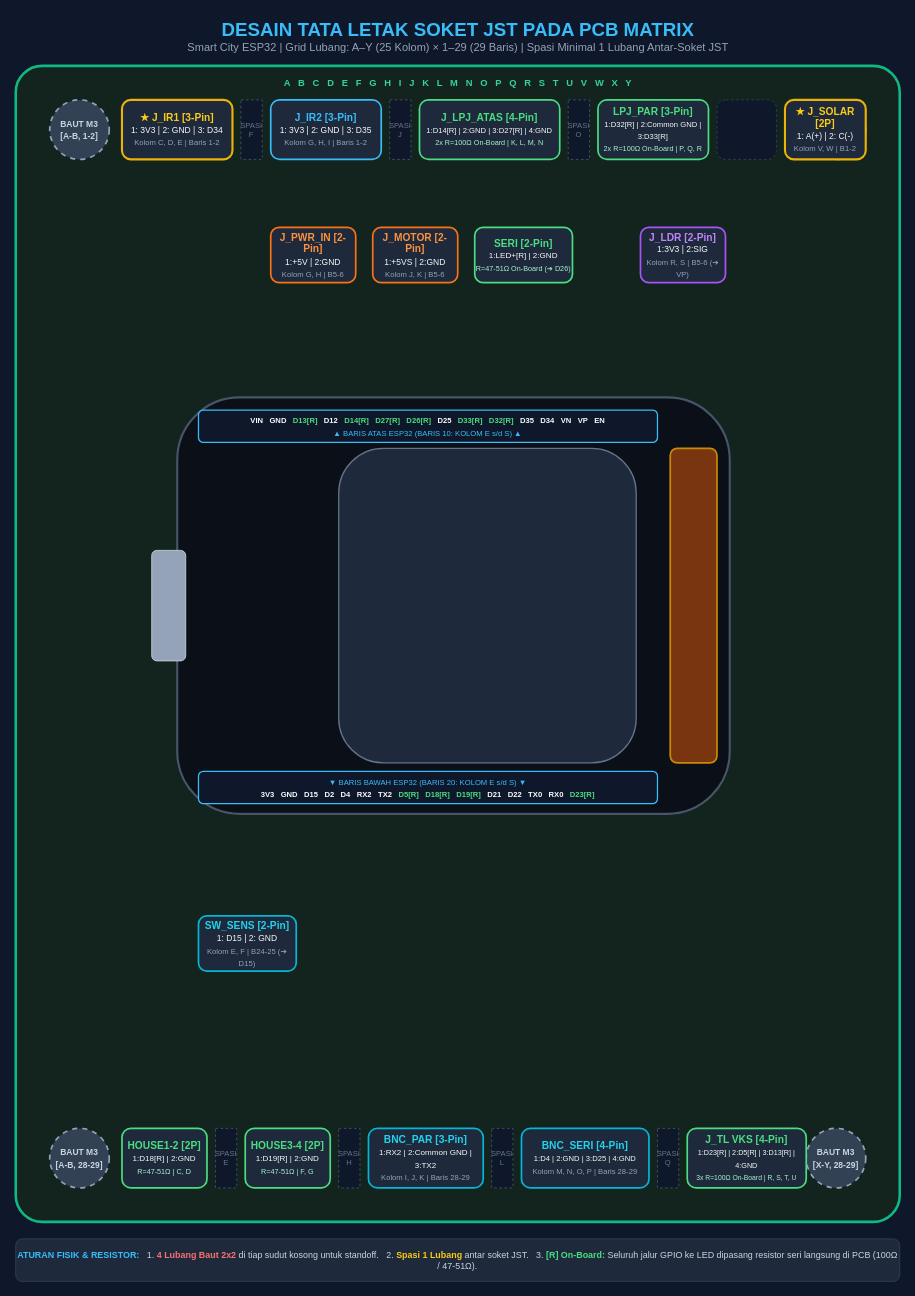
The diagram is 915 pixels wide and 1296 high, and some of its shapes have lost their labels. Each missing label, with the centre of its shape:
AREA R PULL-UP OPTO 10k & LDR (Kolom S, T, U): (746,129)
ESP-WROOM-32 DOIT DevKit v1 (30-Pin NodeMCU): (487,605)
PCB ANTENNA: (693,605)
PORT USB: (168,605)
